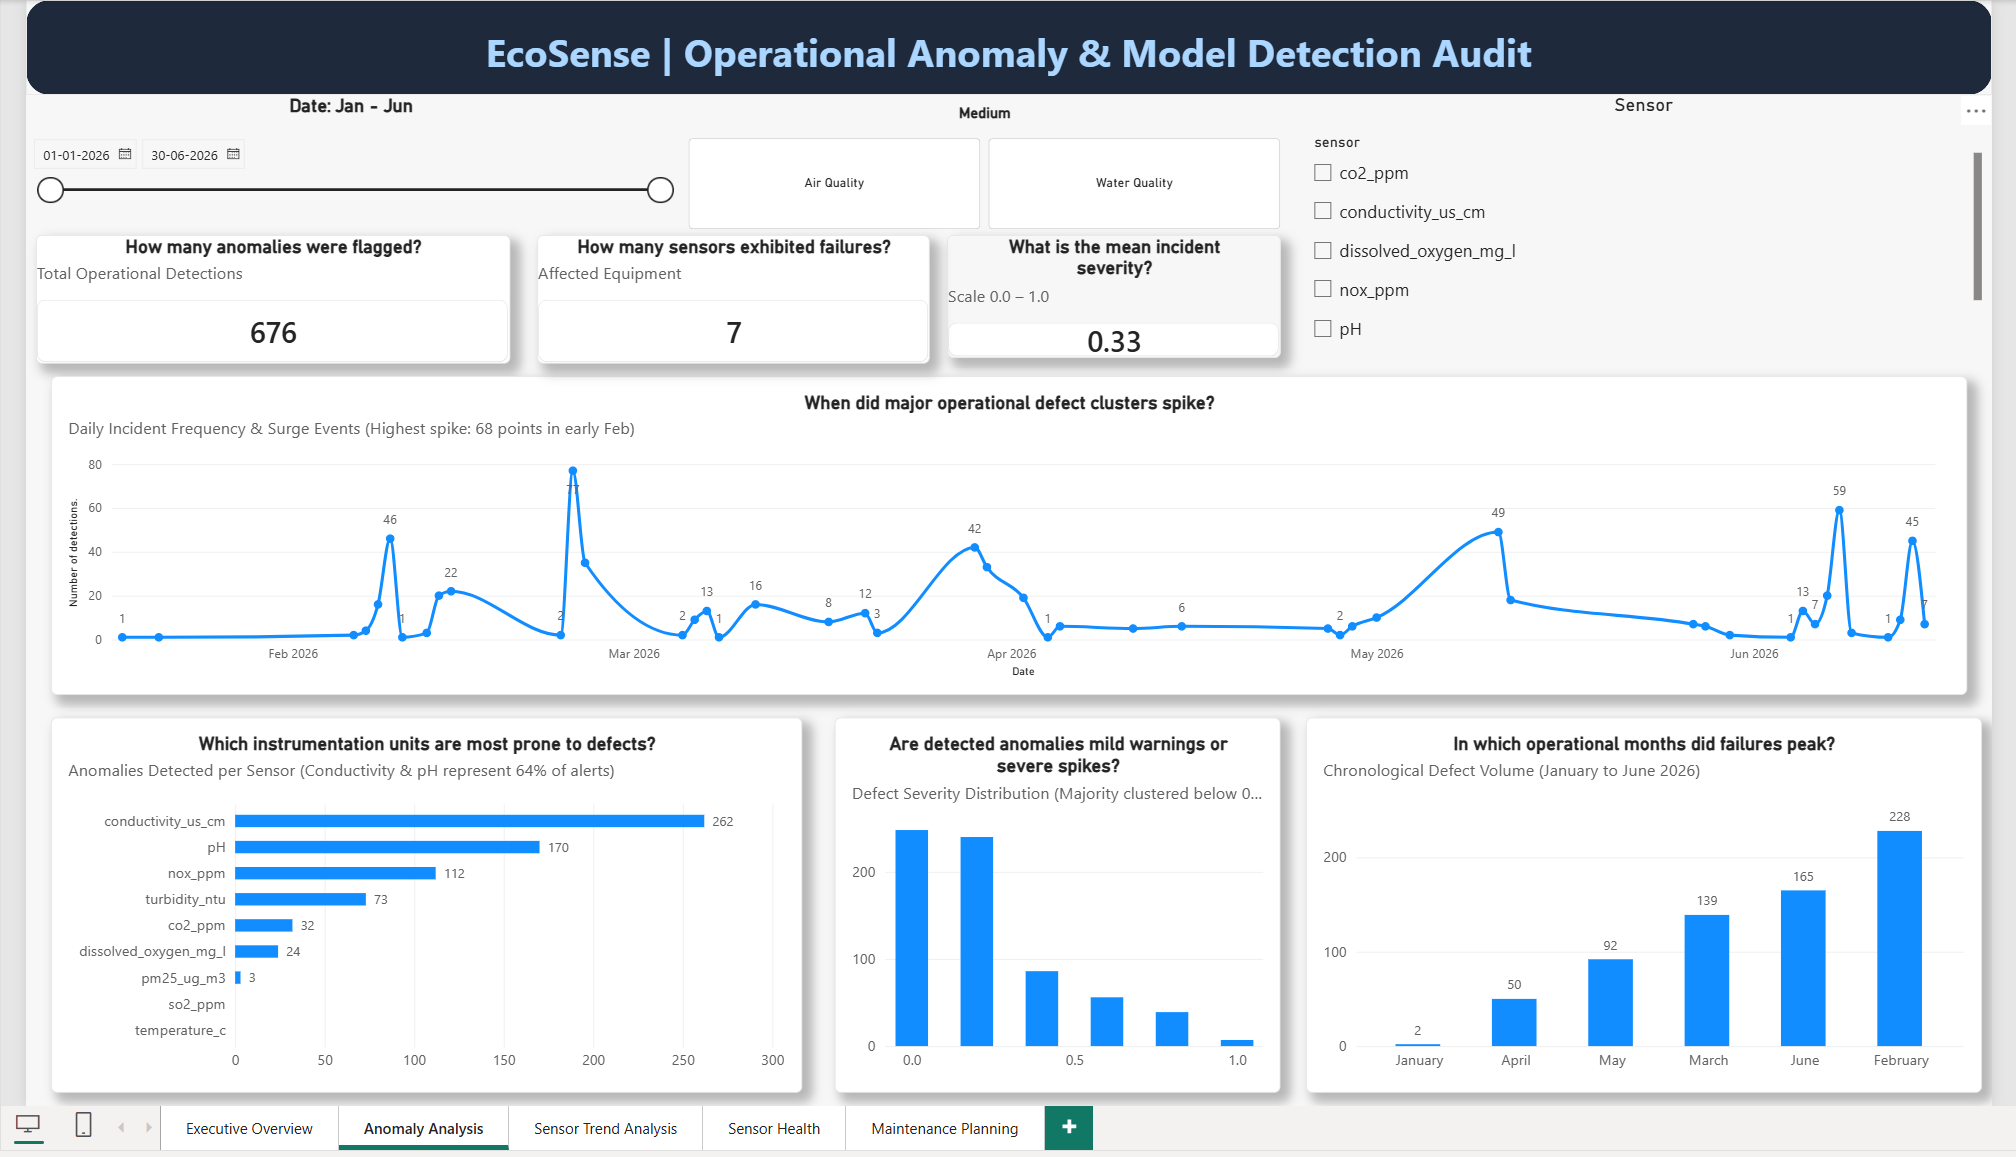

Layout of this report page (visuals, bound fields, positions):
{"tool":"powerbi","page":{"name":"Anomaly Analysis","canvas":[1920,1080],"ordinal":1},"visuals":[{"type":"cardVisual","title":"What is the mean incident severity?","fields":{"Data":["detected_anomalies.Average Anomaly Severity"]},"box":[900,230.1,325.5,120.1],"z":1000},{"type":"cardVisual","title":"How many anomalies were flagged?","fields":{"Data":["detected_anomalies.Detected Anomaly Records"]},"box":[10.1,230.1,463,125.9],"z":2000},{"type":"slicer","title":"Sensor","fields":{"Values":["detected_anomalies.sensor"]},"box":[1250.1,91.2,659.8,253.2],"z":3000},{"type":"advancedSlicerVisual","title":"Medium","fields":{"Values":["detected_anomalies.category"]},"box":[646.8,101.3,578.7,123],"z":4000},{"type":"lineChart","title":"When did major operational defect clusters spike?","fields":{"Category":["detected_anomalies.Anomaly Date"],"Y":["CountNonNull(detected_anomalies.timestamp)"]},"box":[24.6,367.5,1870.8,311.1],"z":5000},{"type":"clusteredBarChart","title":"Which instrumentation units are most prone to defects?","fields":{"Category":["sensor_trends.sensor"],"Y":["CountNonNull(detected_anomalies.timestamp)"]},"box":[24.6,700.3,733.6,366.1],"z":6000},{"type":"clusteredColumnChart","title":"In which operational months did failures peak?","fields":{"Category":["detected_anomalies.timestamp.Variation.Date Hierarchy.Month"],"Y":["CountNonNull(detected_anomalies.timestamp)"]},"box":[1250.1,700.3,659.8,366.1],"z":7000},{"type":"slicer","title":"Date: Jan - Jun","fields":{"Values":["Date.Date"]},"box":[0,92.6,635.2,131.7],"z":8000},{"type":"cardVisual","title":"How many sensors exhibited failures?\t","fields":{"Data":["detected_anomalies.Sensors With Detections"]},"box":[499.2,230.1,383.4,125.9],"z":9000},{"type":"shape","box":[0,0,1920,92.8],"z":10000,"group":"g1"},{"type":"columnChart","title":"Are detected anomalies mild warnings or severe spikes?","fields":{"Category":["detected_anomalies.severity (bins)"],"Y":["CountNonNull(detected_anomalies.timestamp)"]},"box":[790,700.3,435.5,366.1],"z":10000},{"type":"textbox","box":[10.1,25.7,1899.8,54.2],"z":10500,"group":"g1"},{"type":"group","id":"g1","title":"Title","box":[0,0,1920,92.8],"z":11000}]}

Visuals, with their boxes on the page's 1920x1080 design canvas (x1, y1, x2, y2). These are canvas units, not pixel positions in the 2016x1157 screenshot, which may show the page scaled, cropped or inside an application window:
"What is the mean incident severity?" cardVisual: pyautogui.locateOnScreen(900, 230, 1226, 350)
"How many anomalies were flagged?" cardVisual: pyautogui.locateOnScreen(10, 230, 473, 356)
"Sensor" slicer: pyautogui.locateOnScreen(1250, 91, 1910, 344)
"Medium" advancedSlicerVisual: pyautogui.locateOnScreen(647, 101, 1226, 224)
"When did major operational defect clusters spike?" lineChart: pyautogui.locateOnScreen(25, 368, 1895, 679)
"Which instrumentation units are most prone to defects?" clusteredBarChart: pyautogui.locateOnScreen(25, 700, 758, 1066)
"In which operational months did failures peak?" clusteredColumnChart: pyautogui.locateOnScreen(1250, 700, 1910, 1066)
"Date: Jan - Jun" slicer: pyautogui.locateOnScreen(0, 93, 635, 224)
"How many sensors exhibited failures?	" cardVisual: pyautogui.locateOnScreen(499, 230, 883, 356)
shape: pyautogui.locateOnScreen(0, 0, 1920, 93)
"Are detected anomalies mild warnings or severe spikes?" columnChart: pyautogui.locateOnScreen(790, 700, 1226, 1066)
textbox: pyautogui.locateOnScreen(10, 26, 1910, 80)
"Title" group: pyautogui.locateOnScreen(0, 0, 1920, 93)
